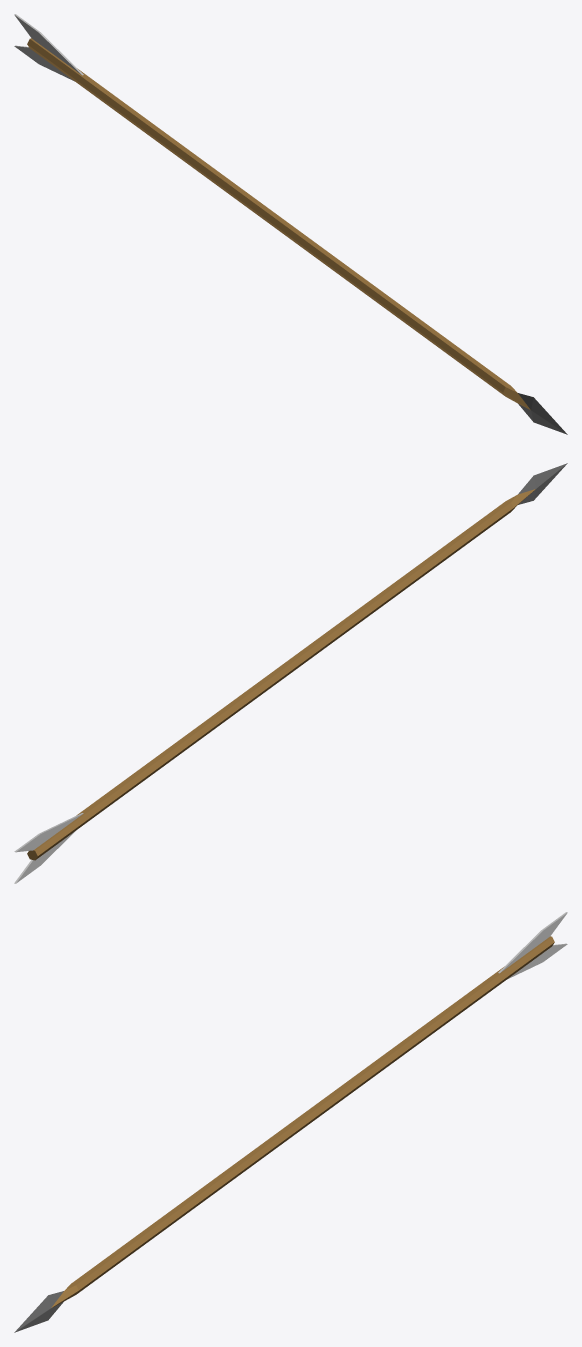
File: Arrow.fbx
3 renders of one model, top to bottom at view 1: azimuth 30°, elevation 25°; view 2: azimuth 150°, elevation 25°; view 3: azimuth 330°, elevation 25°, orthographic.
Visible parts, largest first — view 1: Pijl; view 2: Pijl; view 3: Pijl.
Part boxes in pixels (x1=…): Pijl: x1=14, y1=14, x2=567, y2=434; Pijl: x1=14, y1=463, x2=567, y2=883; Pijl: x1=14, y1=912, x2=567, y2=1332.
Bounding box in the file's own units: 0.0085 × 0.024 × 0.7623.
